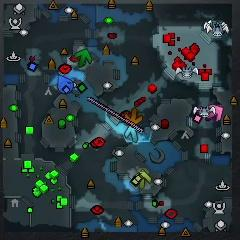p1: (57, 74, 74, 93)
x1: (207, 104, 223, 121)
x2: (134, 170, 151, 188)
x3: (124, 126, 142, 142)
x4: (75, 49, 92, 67)
x5: (126, 108, 143, 126)
